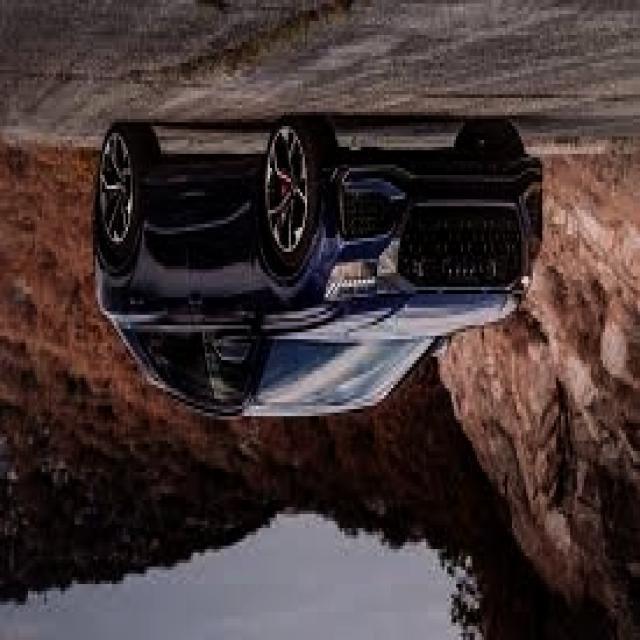blue: (94, 106, 537, 408)
